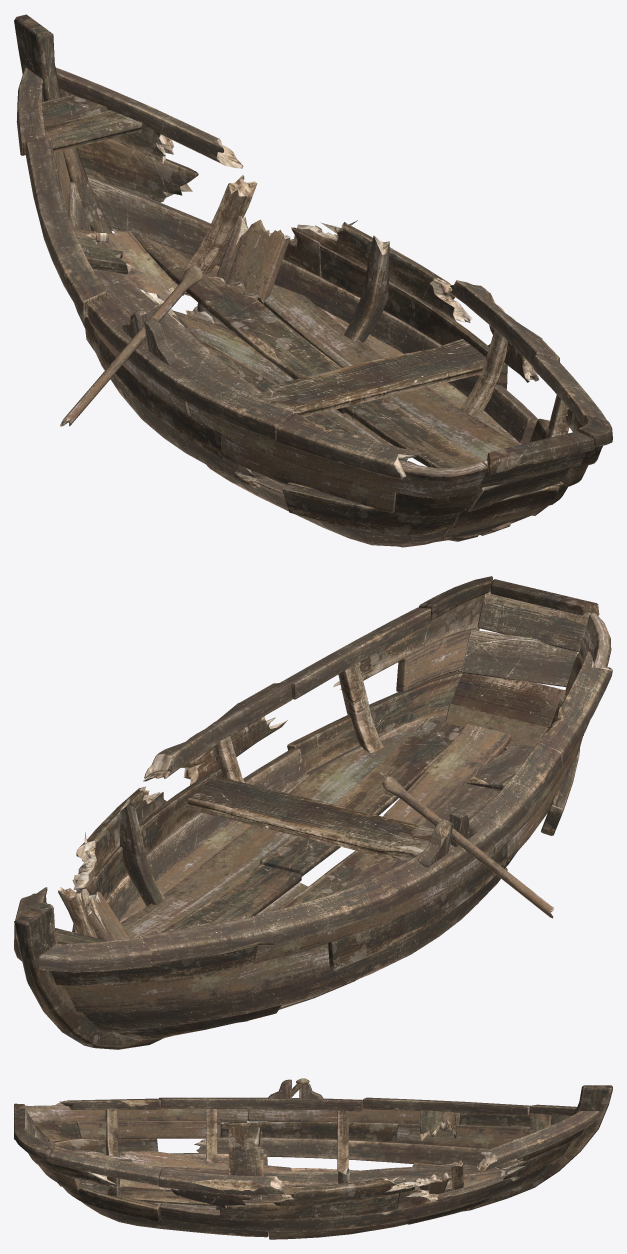
3 views of the same model, one above another, from view 1: azimuth 30°, elevation 25°; view 2: azimuth 150°, elevation 25°; view 3: azimuth 270°, elevation 25° (orthographic). The views are drawn at different scales.
Visible parts, largest first — view 1: SM_Village_Boat_v1_LOD0; view 2: SM_Village_Boat_v1_LOD0; view 3: SM_Village_Boat_v1_LOD0.
Boxes of the visible parts, x1=… form: SM_Village_Boat_v1_LOD0: x1=14, y1=14, x2=612, y2=547; SM_Village_Boat_v1_LOD0: x1=14, y1=576, x2=612, y2=1049; SM_Village_Boat_v1_LOD0: x1=14, y1=1078, x2=612, y2=1239.
Size of the model in its own units: 2.22 by 1.2 by 4.9.
1 material, 1 textured.
